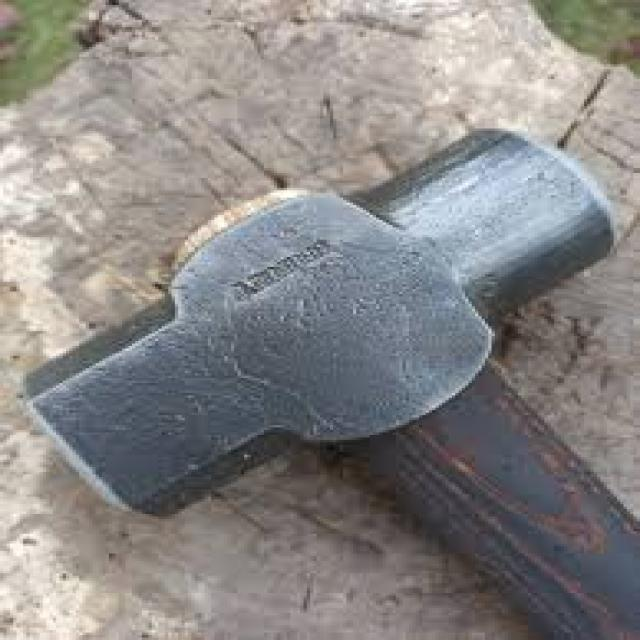hammer: (13, 121, 640, 640)
